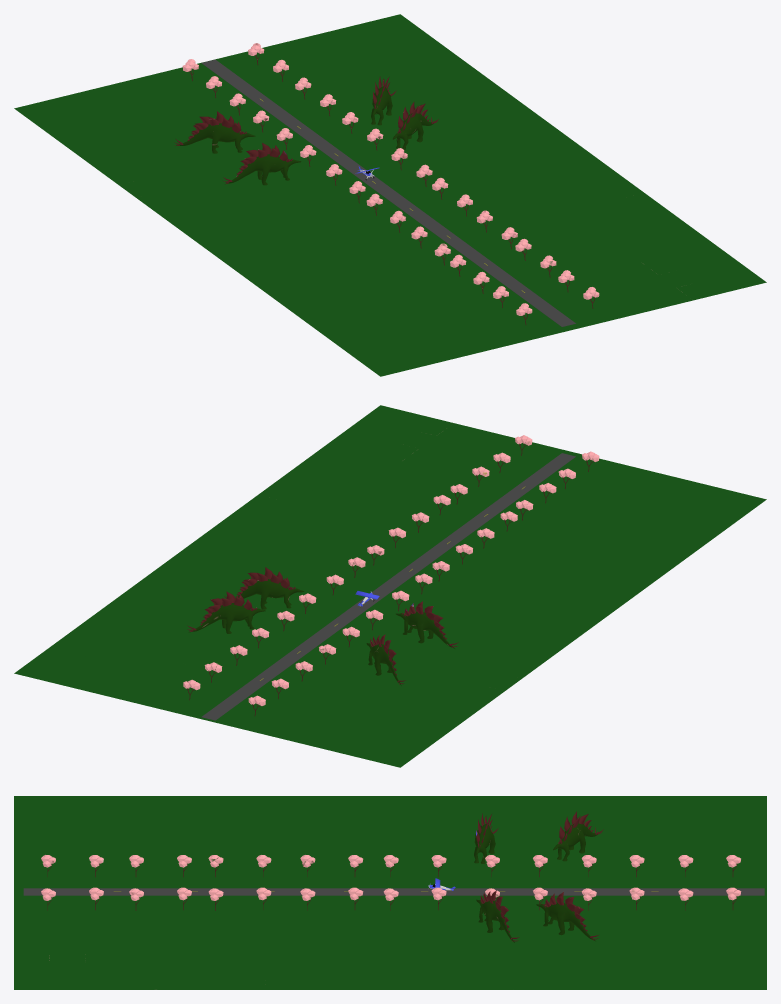
The picture shows the model from 3 angles, top to bottom: view 1: azimuth 30°, elevation 25°; view 2: azimuth 150°, elevation 25°; view 3: azimuth 270°, elevation 25°; orthographic projection. The views are drawn at different scales.
Visible parts, largest first — view 1: Ground; view 2: Ground; view 3: Ground.
Part boxes in pixels (x1=…): Ground: x1=14, y1=14, x2=766, y2=376; Ground: x1=14, y1=405, x2=766, y2=767; Ground: x1=14, y1=796, x2=766, y2=989.
Bounding box in the file's own units: 122 × 11.01 × 200.
Materials: 1 (1 with a texture image).
